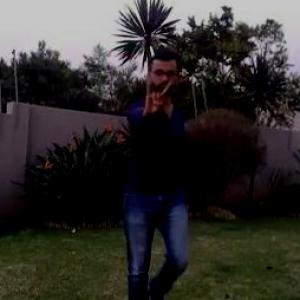takeoff-hand: (133, 68, 175, 120)
